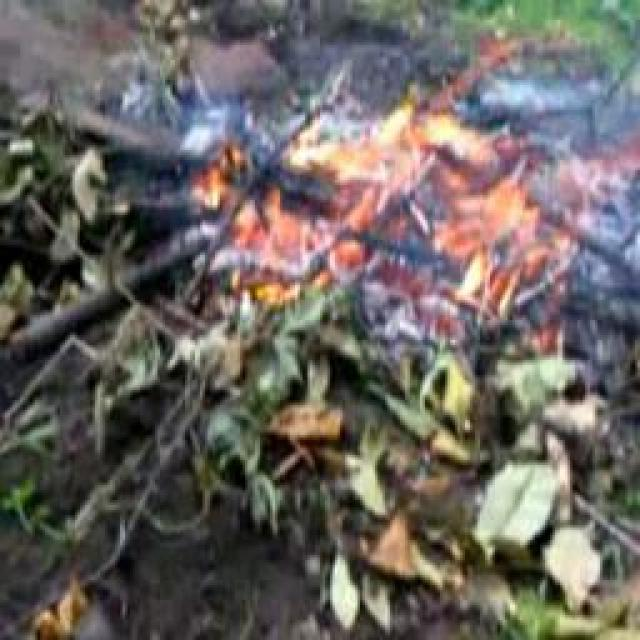Fire: (201, 95, 575, 322)
